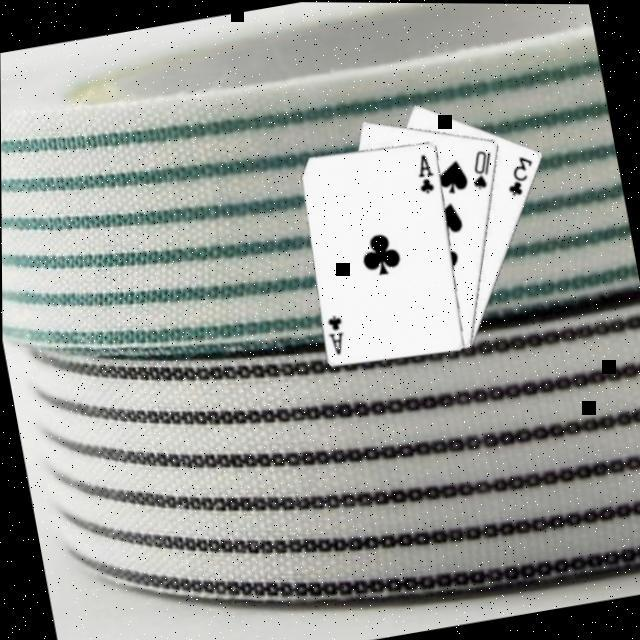10S: (464, 142, 500, 190)
3C: (500, 147, 540, 197)
AC: (322, 306, 352, 356), (411, 147, 440, 194)
